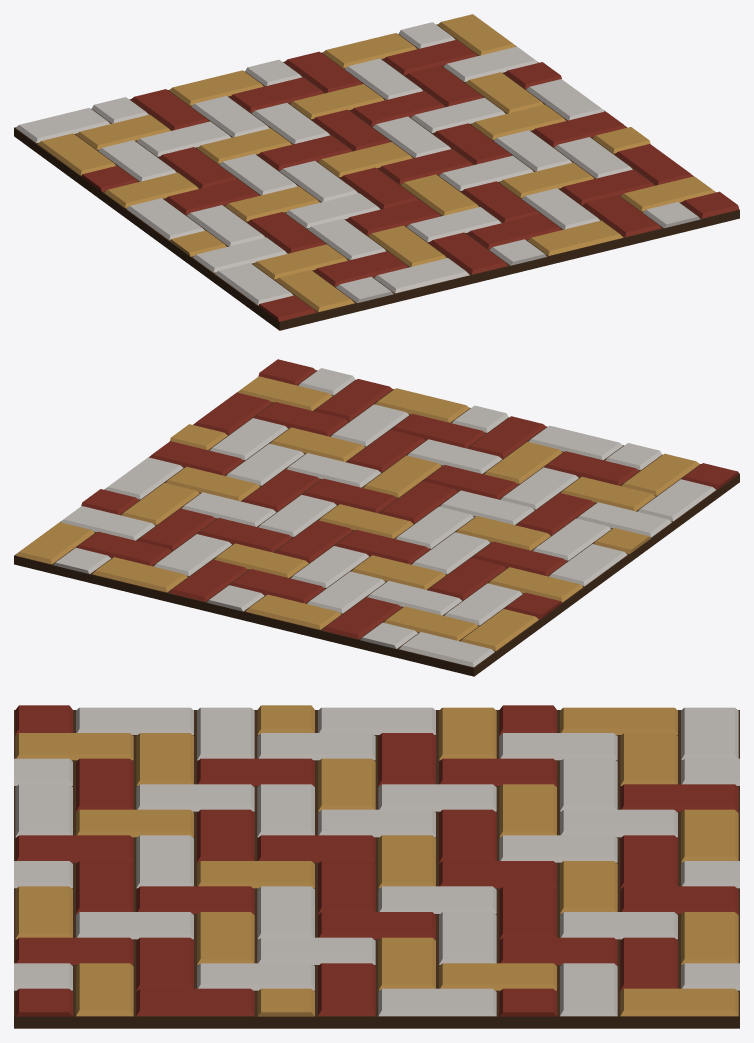
Rendered from porte-coch-re-drive-6806b4.glb.
The picture shows the model from 3 angles, top to bottom: view 1: azimuth 30°, elevation 25°; view 2: azimuth 150°, elevation 25°; view 3: azimuth 270°, elevation 25°; orthographic projection. The views are drawn at different scales.
Parts seen in each view (by area): view 1: drive-paving; view 2: drive-paving; view 3: drive-paving.
Boxes of the visible parts, left/top/right/bottom form: drive-paving: left=14, top=14, right=739, bottom=330; drive-paving: left=14, top=359, right=739, bottom=676; drive-paving: left=14, top=705, right=739, bottom=1028.
Bounding box in the file's own units: 2 × 0.05 × 2.
